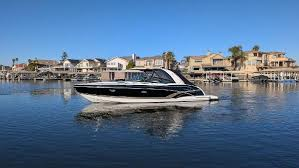boat: (73, 67, 218, 117)
